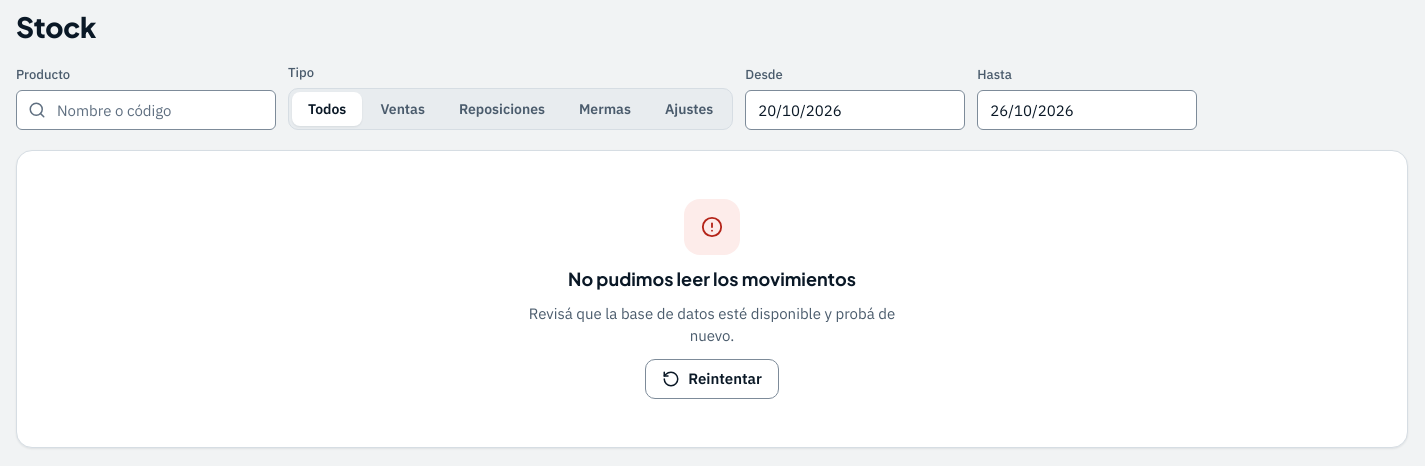
Test: StockMovements › error: "No pudimos leer los movimientos" y Reintentar vuelve a pedir
The image size is (1425, 466).
Check: the heading "No pudimos leer los movimientos" is shown, box [568,267,856,291]
Click the button "Reintentar".
click(712, 379)  # box [645,359,779,399]
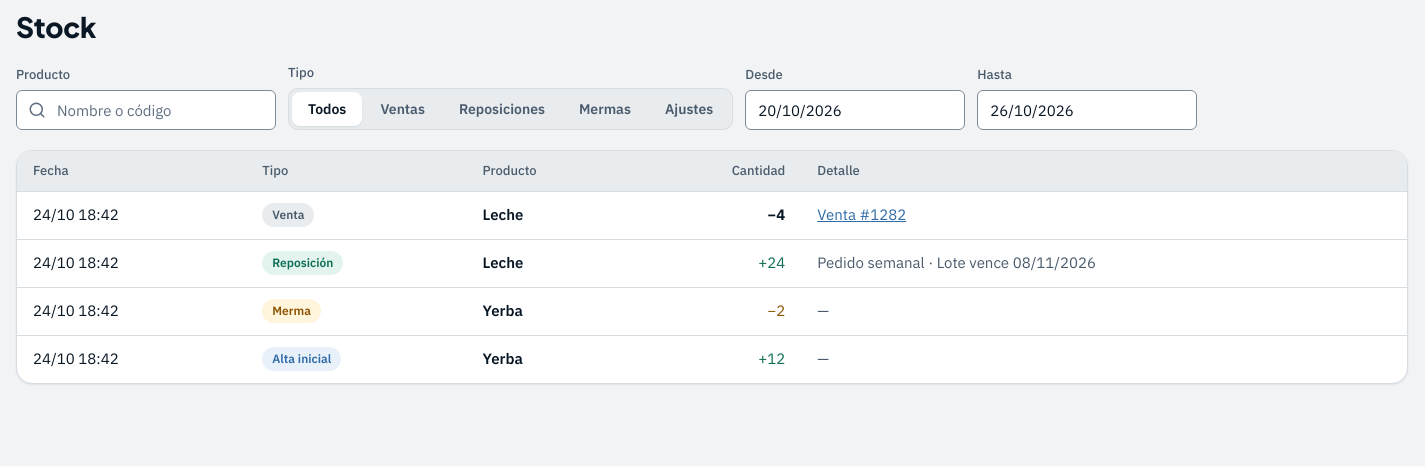
Check: the text "Venta" is shown, box [262,203,314,227]
